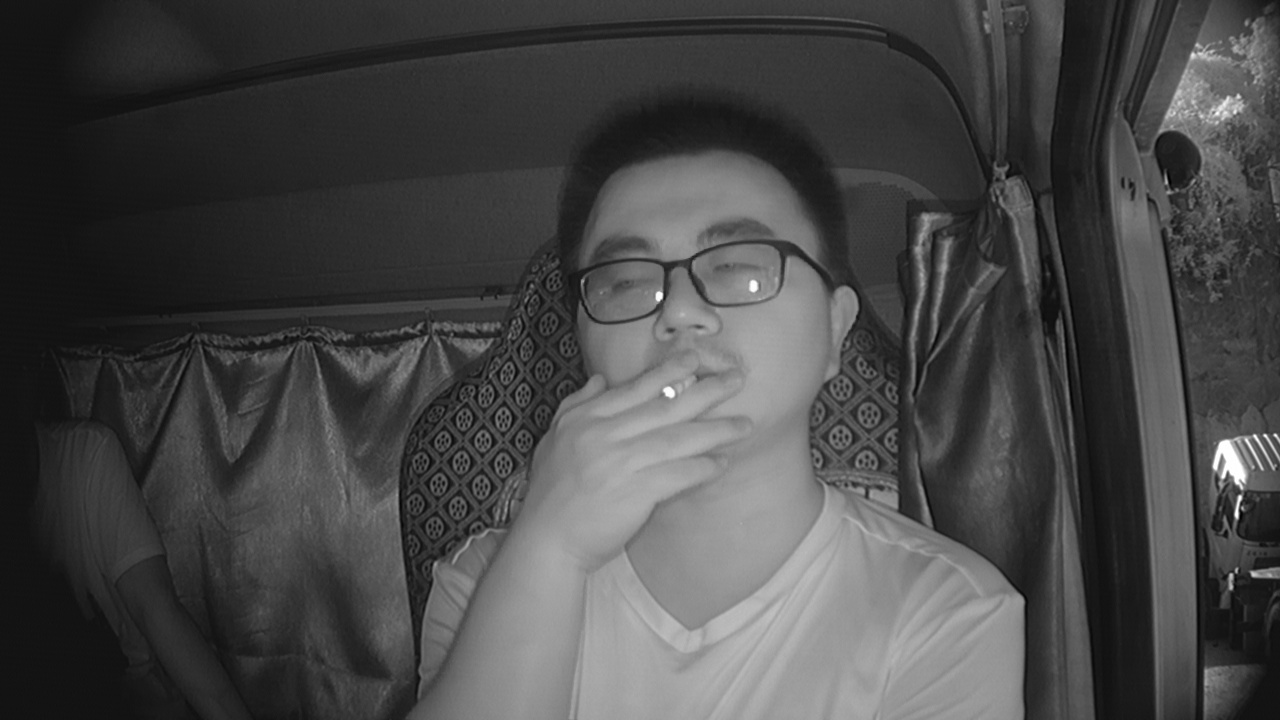hand: (530, 345, 756, 533)
